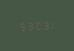nine: (18, 20, 24, 31)
one: (46, 19, 52, 30)
three: (25, 20, 31, 31), (39, 19, 45, 30)
zero: (32, 20, 38, 30)
